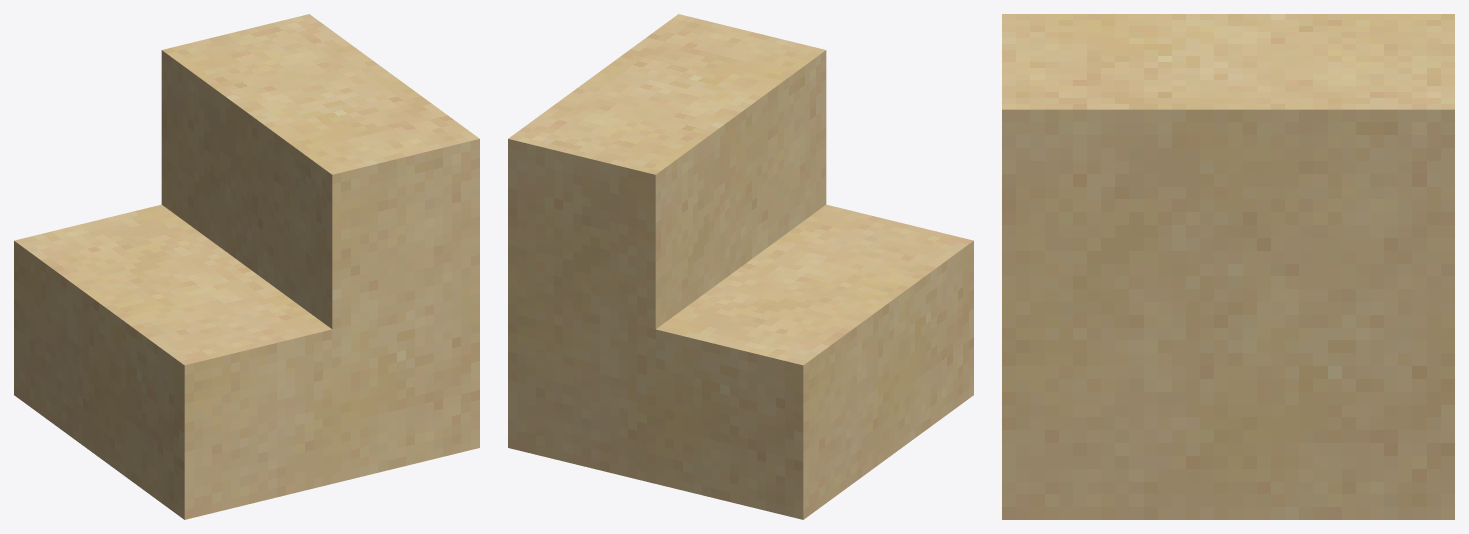
File: block_smooth_sandstone_stairs.gltf
The picture shows the model from 3 angles, left to right: view 1: azimuth 30°, elevation 25°; view 2: azimuth 150°, elevation 25°; view 3: azimuth 270°, elevation 25°; orthographic projection. The views are drawn at different scales.
Visible parts, largest first — view 1: cube (×2); view 2: cube (×2); view 3: cube (×2).
Part boxes in pixels (x1,y1,x2,y2): cube (×2): (14, 14, 479, 519); cube (×2): (508, 14, 973, 519); cube (×2): (1002, 14, 1454, 519).
Size of the model in its own units: 1 by 1 by 1.
Materials: 1 (1 with a texture image).
